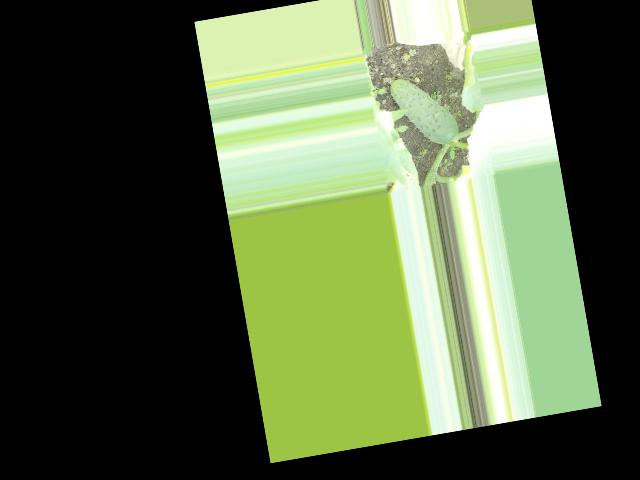cucumber: (388, 70, 460, 152)
